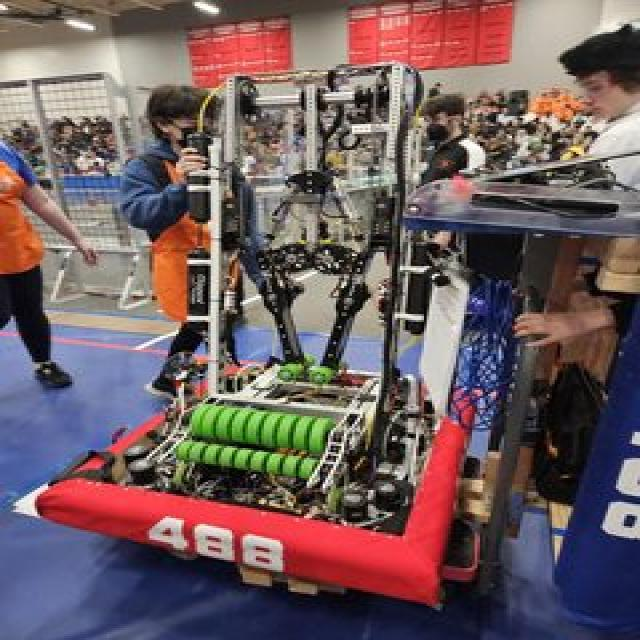robot: (35, 0, 480, 613)
